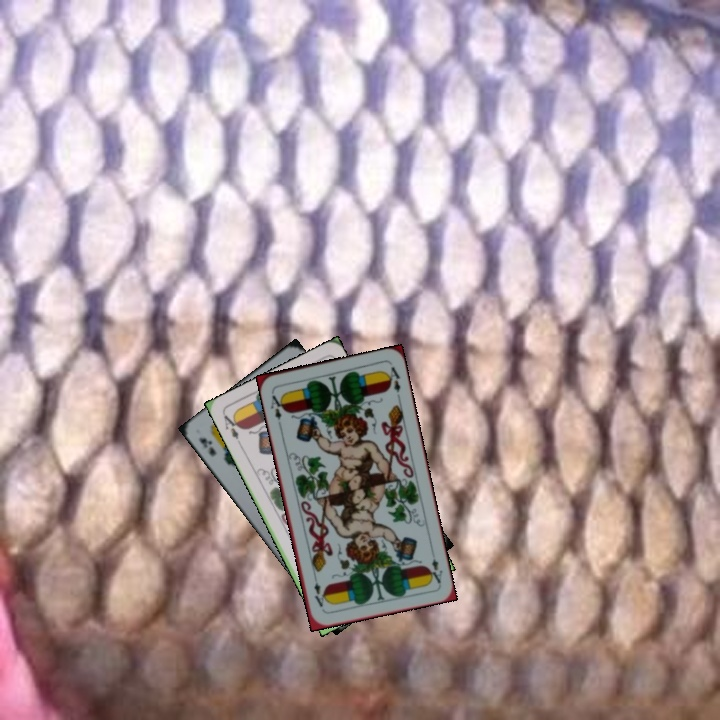EA: (425, 546, 445, 586), (220, 410, 243, 442), (266, 388, 287, 423)
EK: (195, 433, 219, 459)
